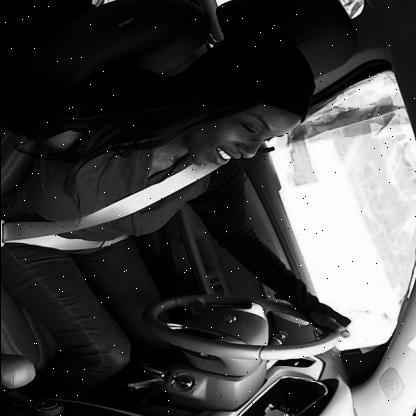seatbelt: (72, 31, 322, 238)
